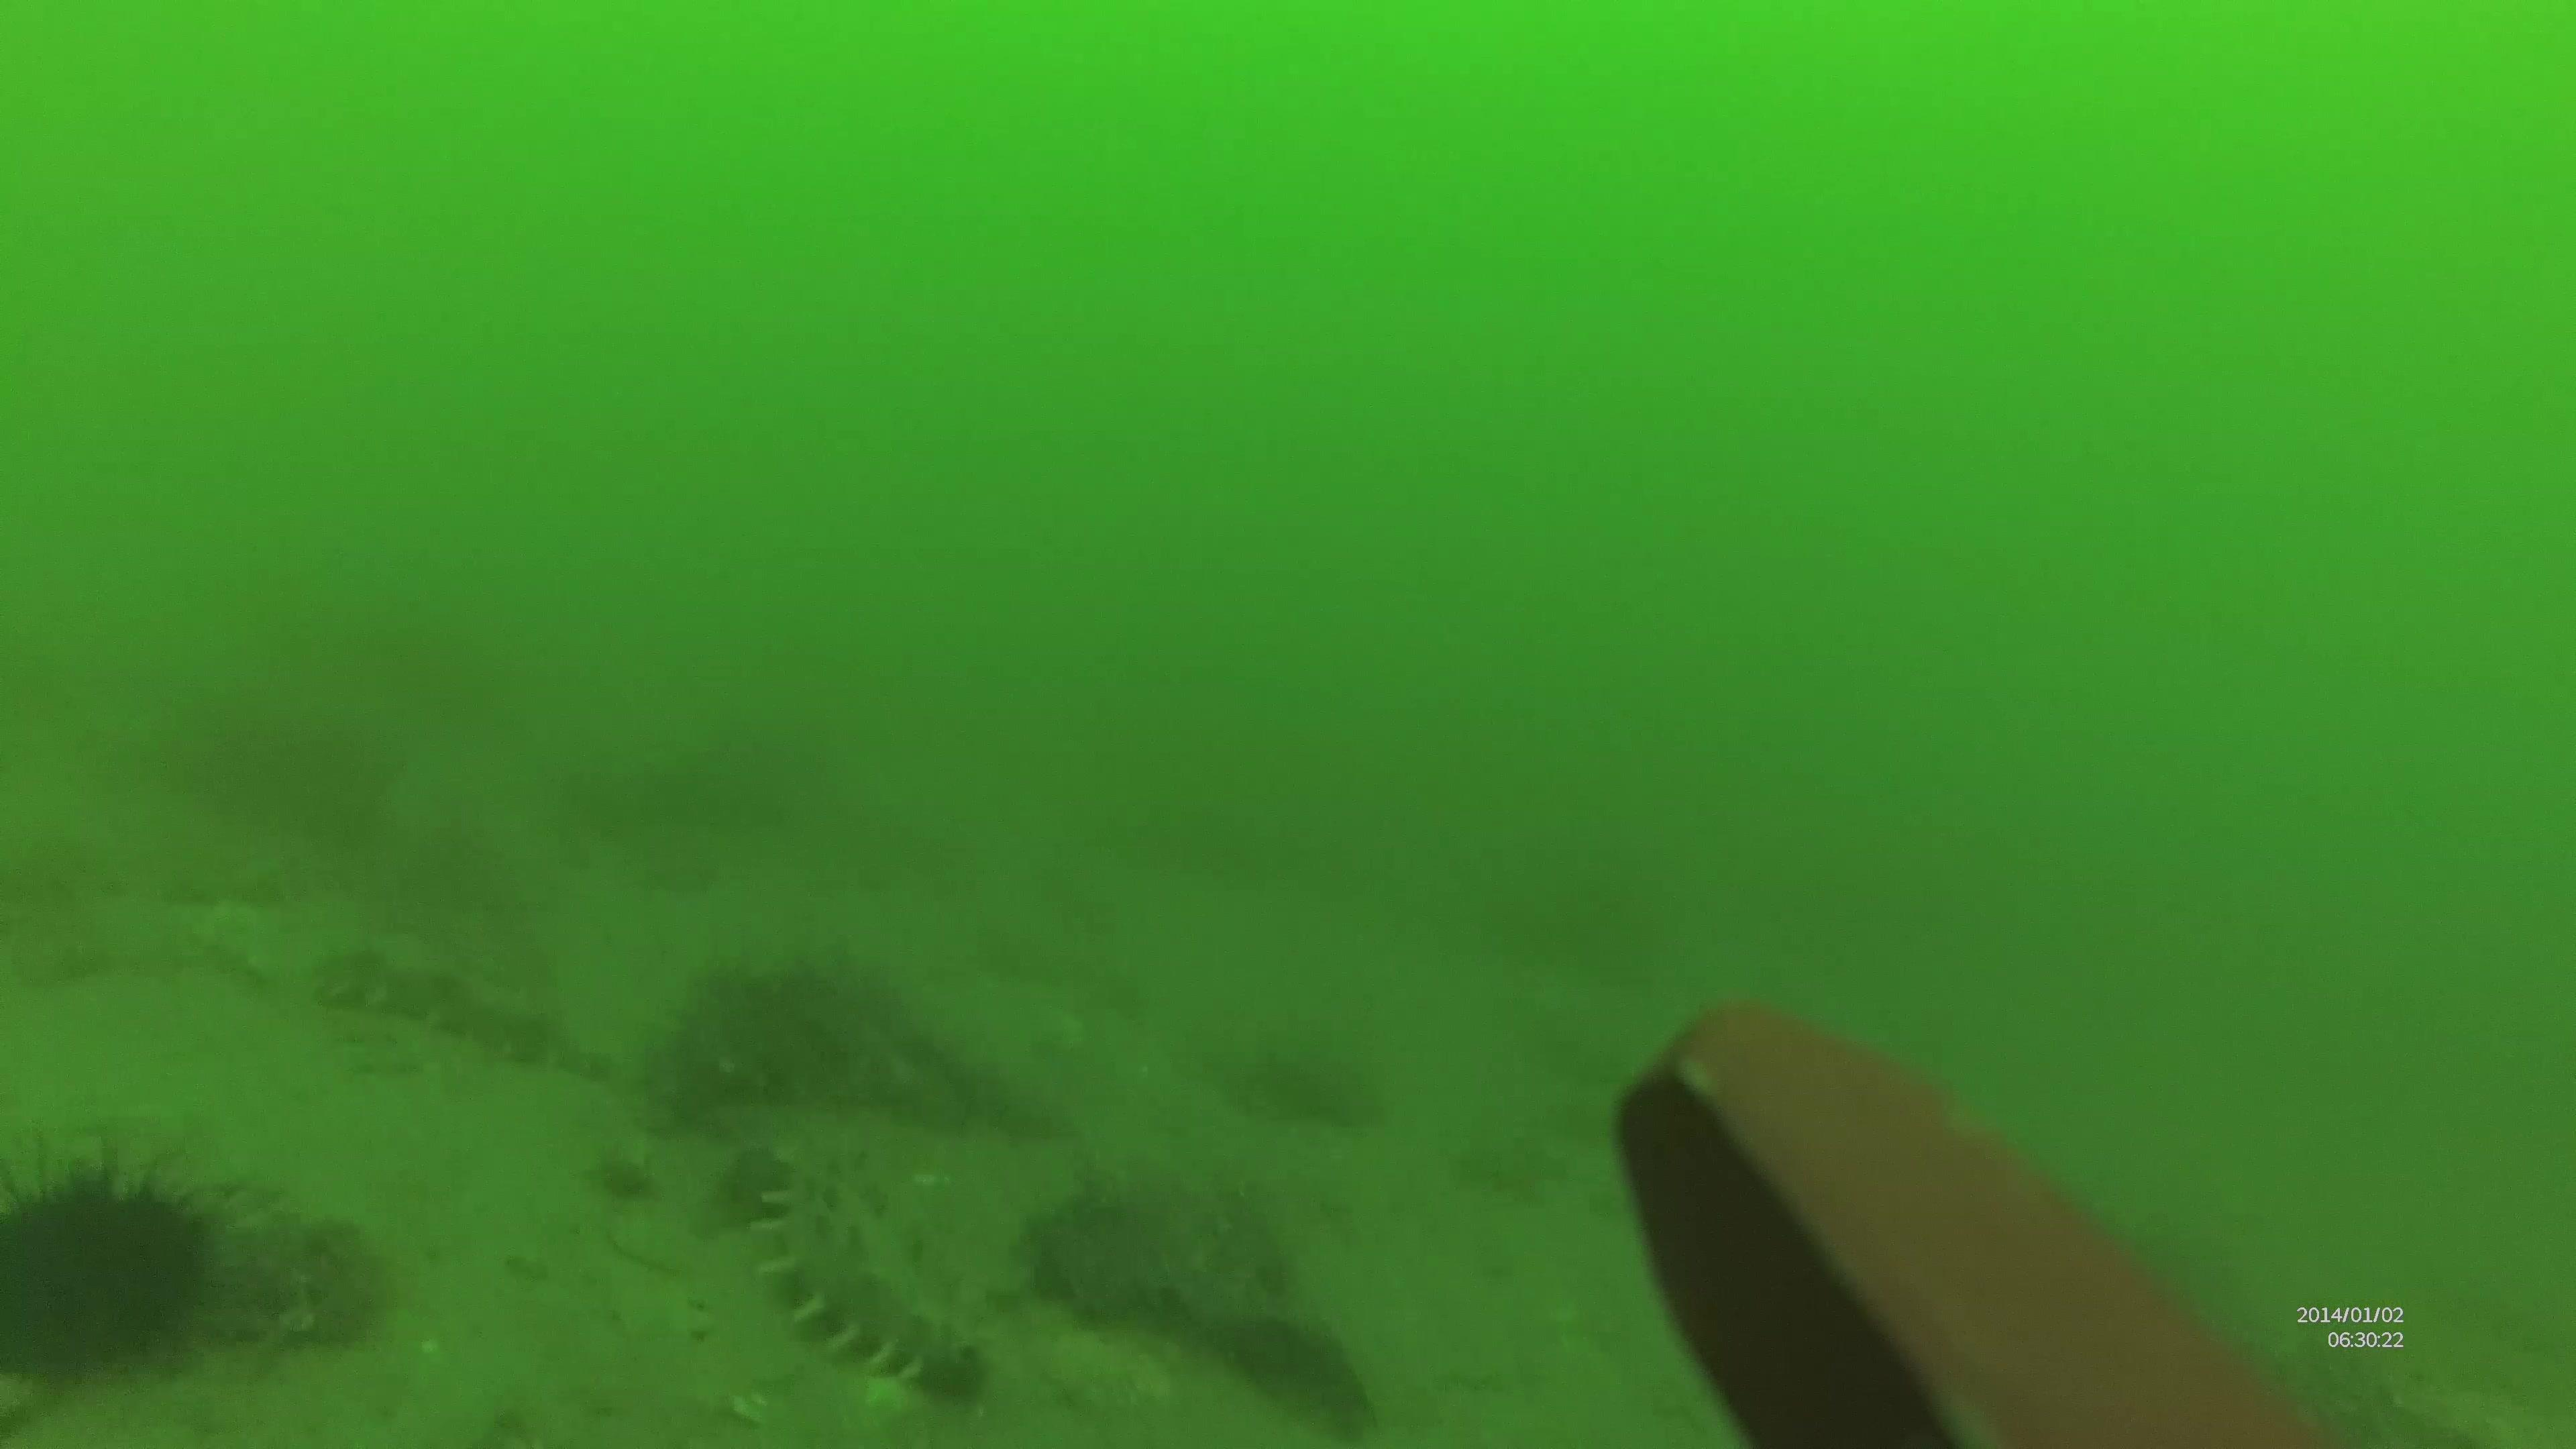echinus: (0, 1148, 228, 1378)
holothurian: (738, 1155, 975, 1398), (299, 945, 598, 1086)
